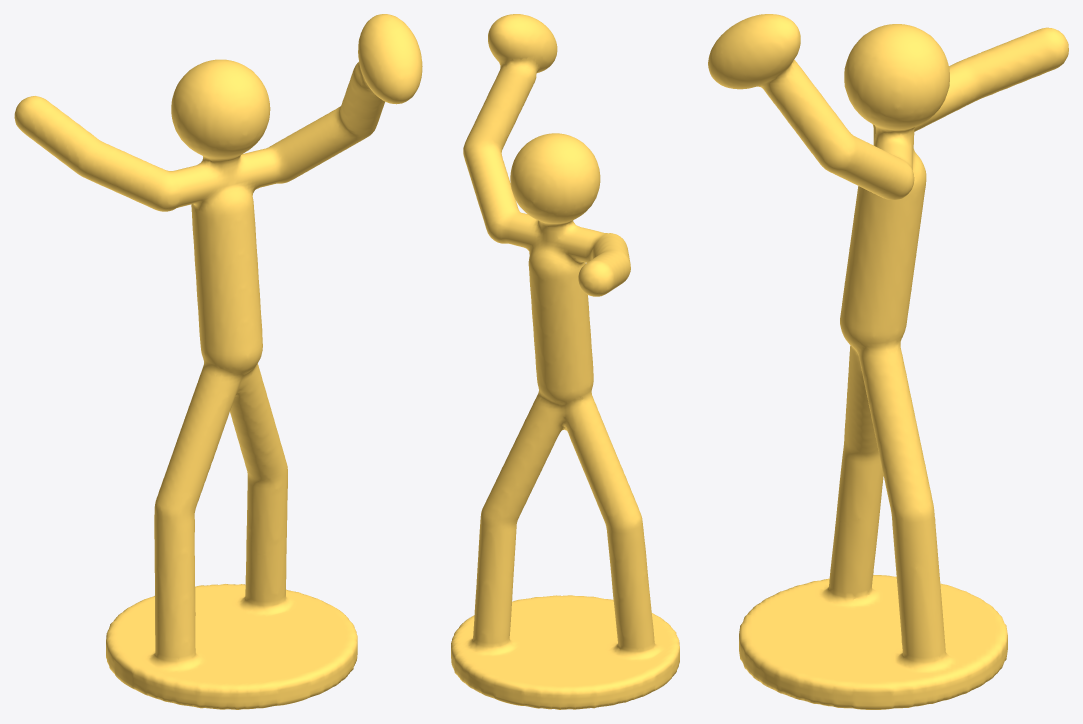
The model's file is football.glb.
3 renders of one model, left to right at view 1: azimuth 30°, elevation 25°; view 2: azimuth 150°, elevation 25°; view 3: azimuth 270°, elevation 25°, orthographic. The views are drawn at different scales.
Visible parts, largest first — view 1: football; view 2: football; view 3: football.
Boxes of the visible parts, x1,y1,x2,y2 form: football: (14,14,422,709); football: (451,14,679,709); football: (708,14,1068,709).
Size of the model in its own units: 0.8203 by 1.93 by 0.9108.
